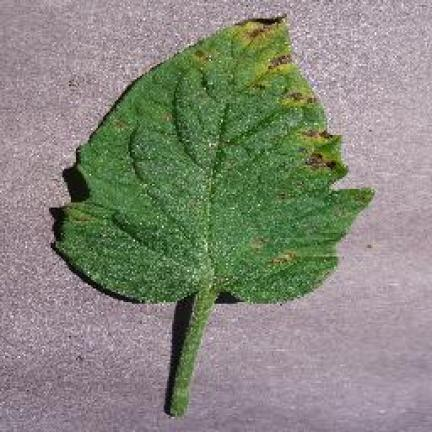disease: (172, 292, 221, 418)
leaf: (334, 209, 346, 216)
